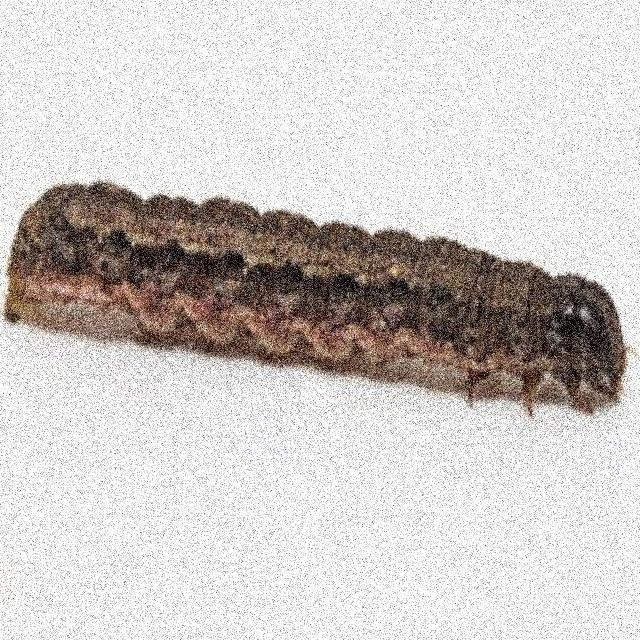worm: (5, 180, 628, 419)
